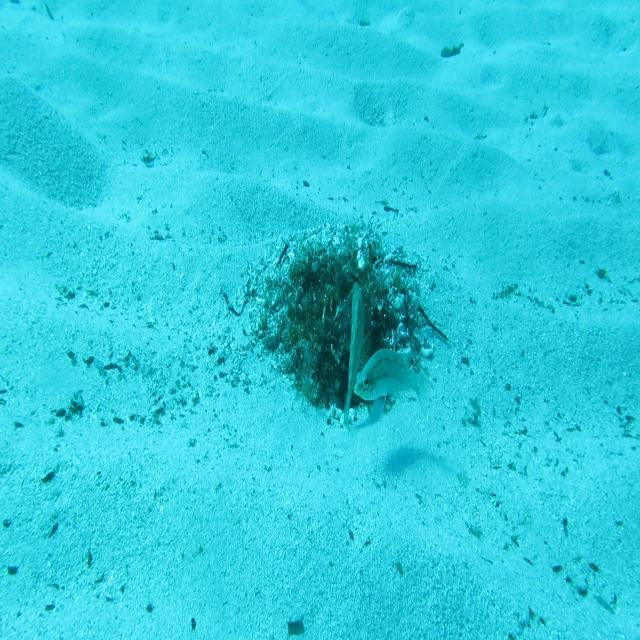FAN: (342, 282, 371, 436)
core_nest: (313, 265, 369, 300)
female: (352, 346, 433, 420)
nest: (242, 210, 440, 441)
vegetation: (438, 42, 466, 63)
